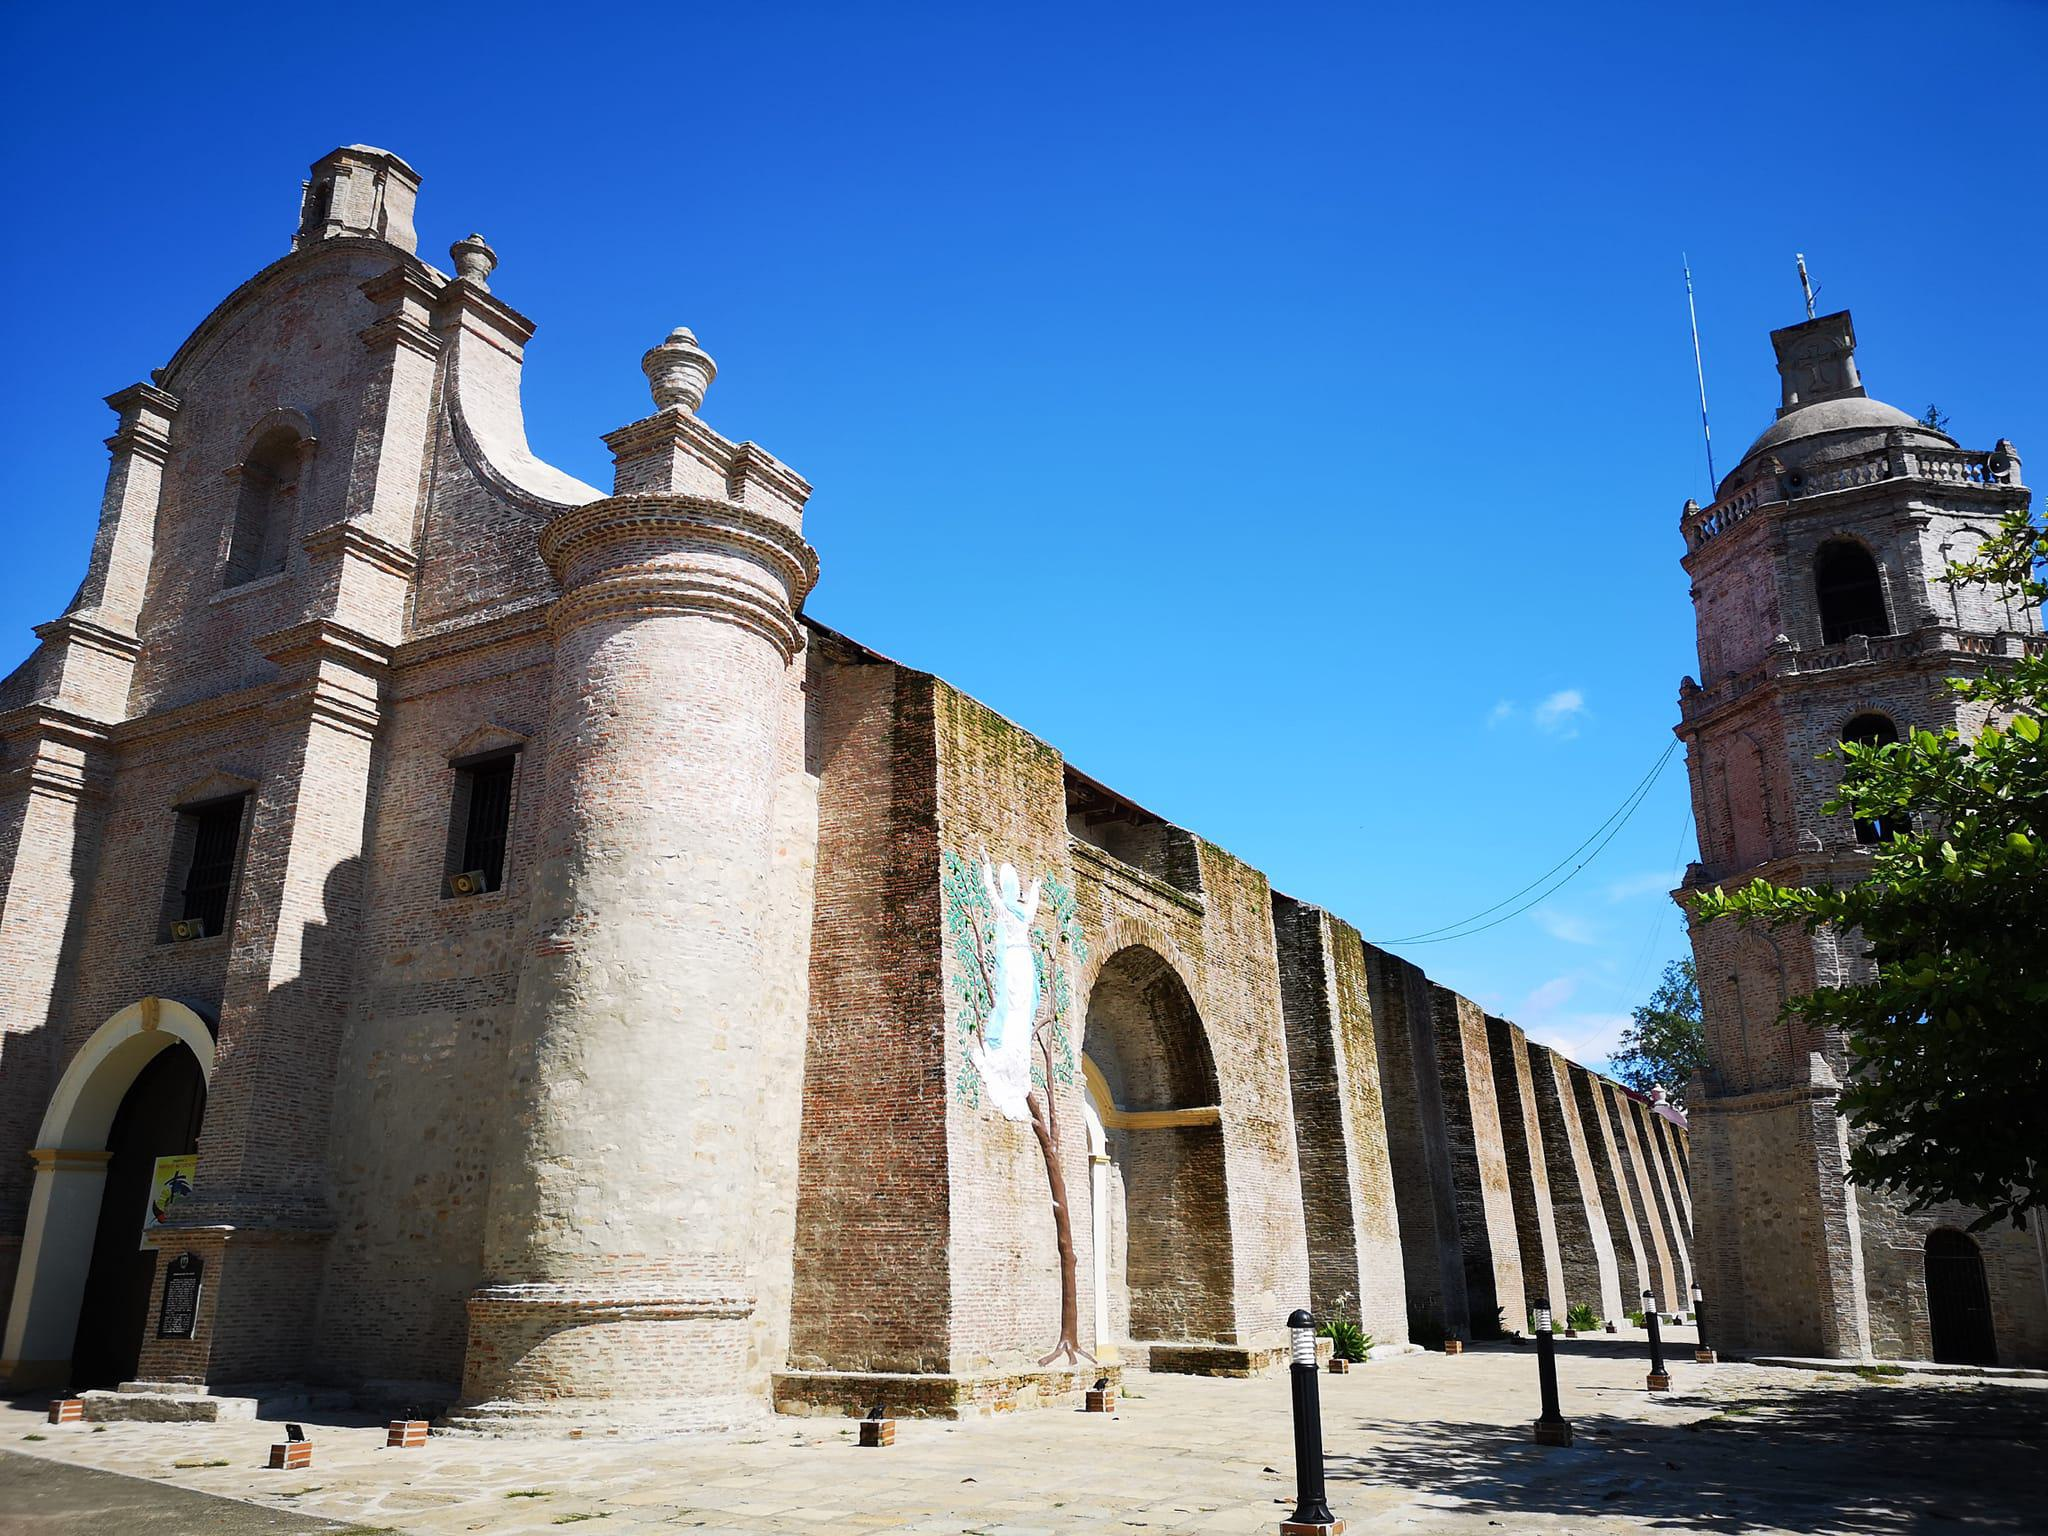santa_maria_church_santa_maria_ilocos_sur: (13, 131, 814, 1447)
water_damage_or_mold: (939, 699, 1077, 789)
